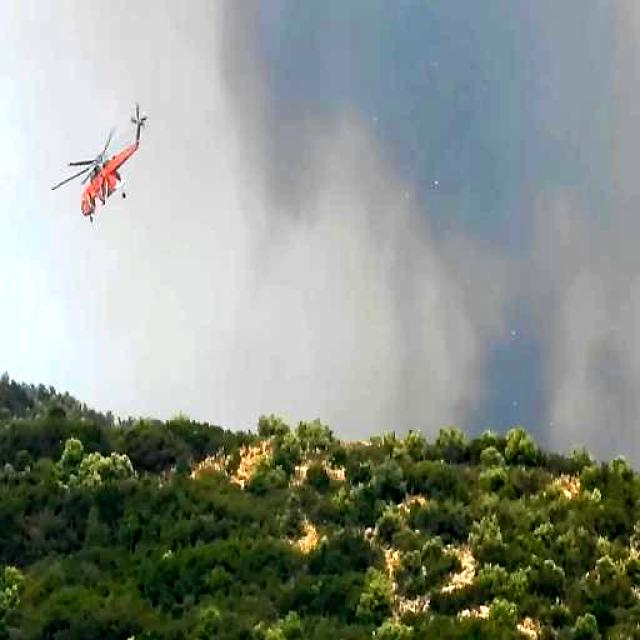drone: (46, 89, 158, 240)
